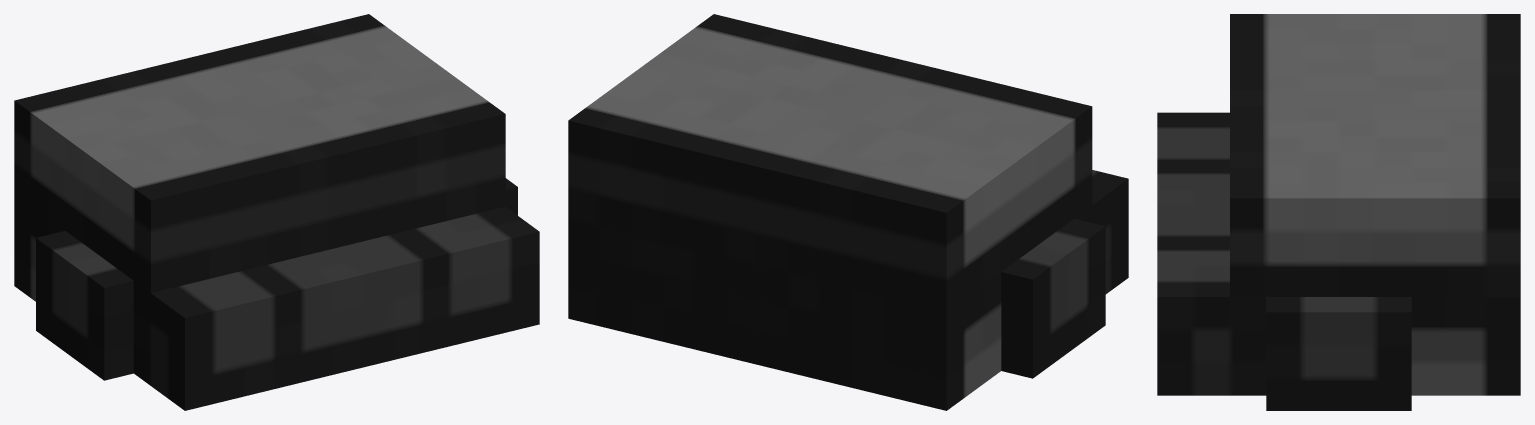
File: Spine081.fbx
3 views of the same model, side by side, from view 1: azimuth 30°, elevation 25°; view 2: azimuth 150°, elevation 25°; view 3: azimuth 270°, elevation 25° (orthographic). The views are drawn at different scales.
Visible parts, largest first — view 1: Spine081; view 2: Spine081; view 3: Spine081.
Part boxes in pixels (x1,y1,x2,y2): Spine081: (14,14,539,410); Spine081: (568,14,1128,410); Spine081: (1157,14,1520,410).
Size of the model in its own units: 14 by 6 by 10.
